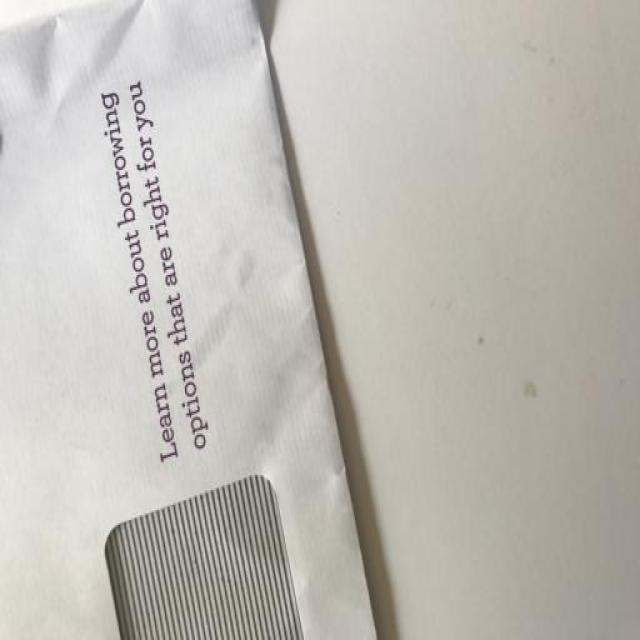paper: (0, 0, 389, 638)
